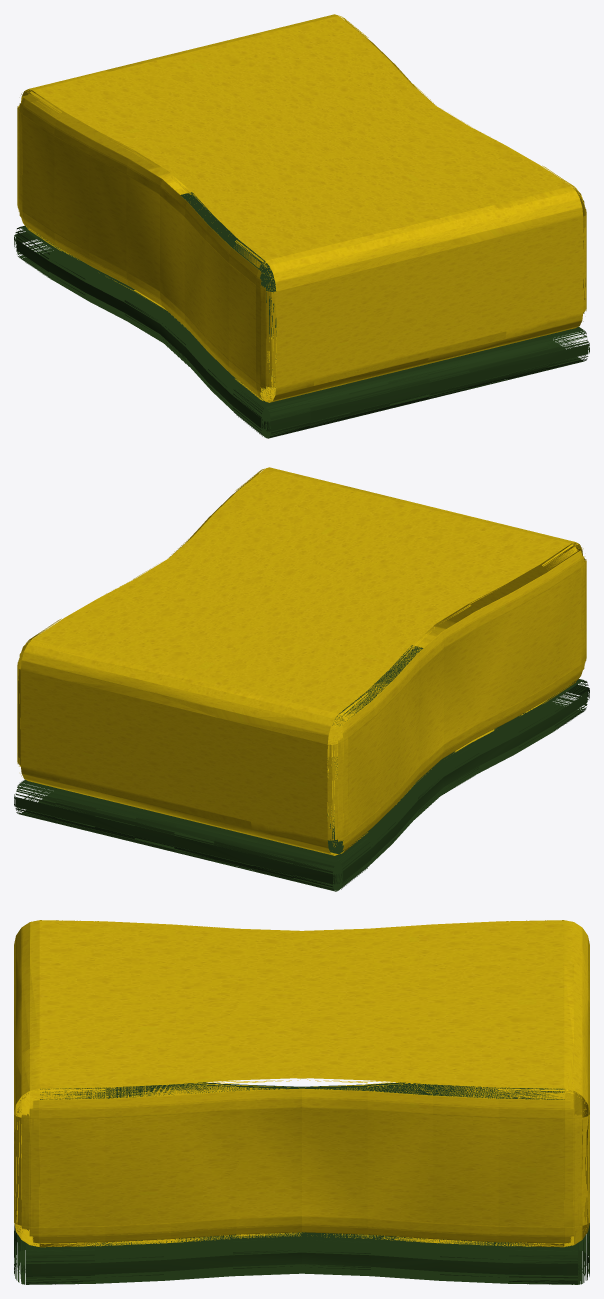
3 renders of one model, top to bottom at view 1: azimuth 30°, elevation 25°; view 2: azimuth 150°, elevation 25°; view 3: azimuth 270°, elevation 25°, orthographic. The views are drawn at different scales.
Parts seen in each view (by area): view 1: body; view 2: body; view 3: body.
Part boxes in pixels (x1,y1,x2,y2): body: [14, 14, 589, 438]; body: [14, 467, 589, 891]; body: [14, 920, 589, 1284].
Size of the model in its own units: 0.058 by 0.0291 by 0.0787.
2 materials, 1 textured.
